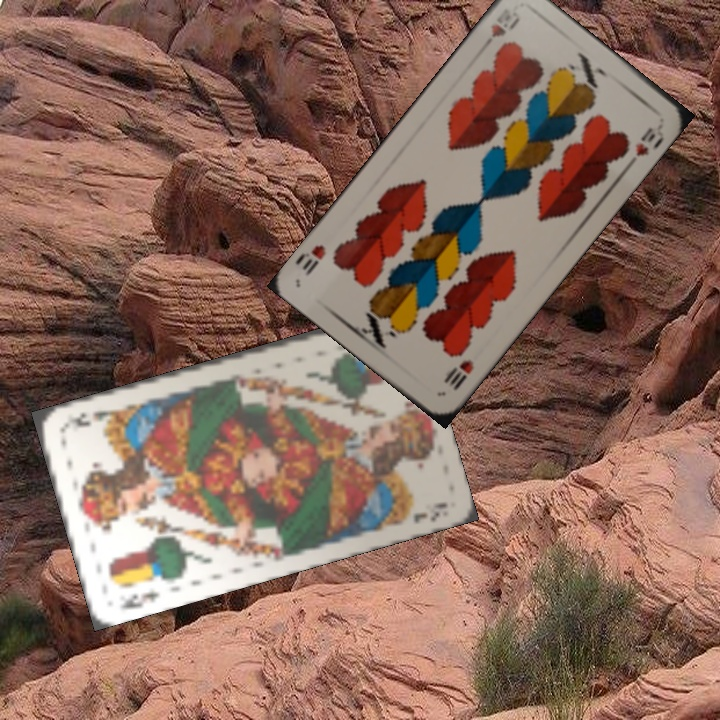EK: (115, 587, 162, 612)
H10: (440, 355, 477, 393), (486, 13, 523, 41)
